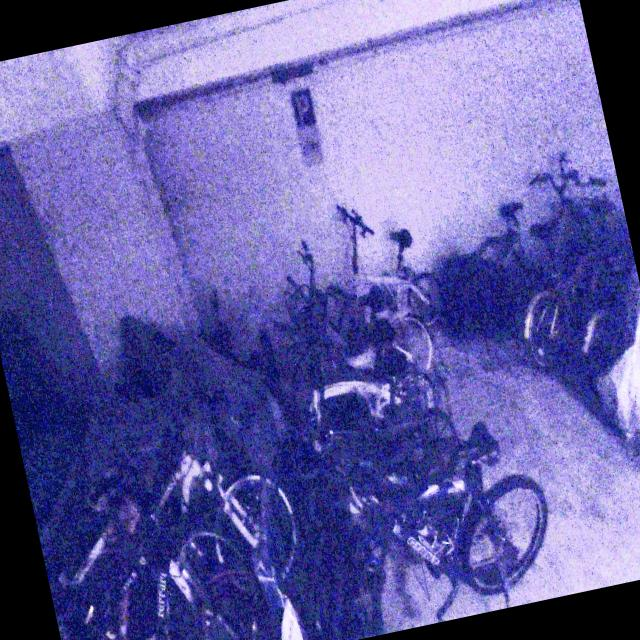bike: (324, 410, 564, 638), (53, 420, 308, 630), (314, 190, 450, 362)
